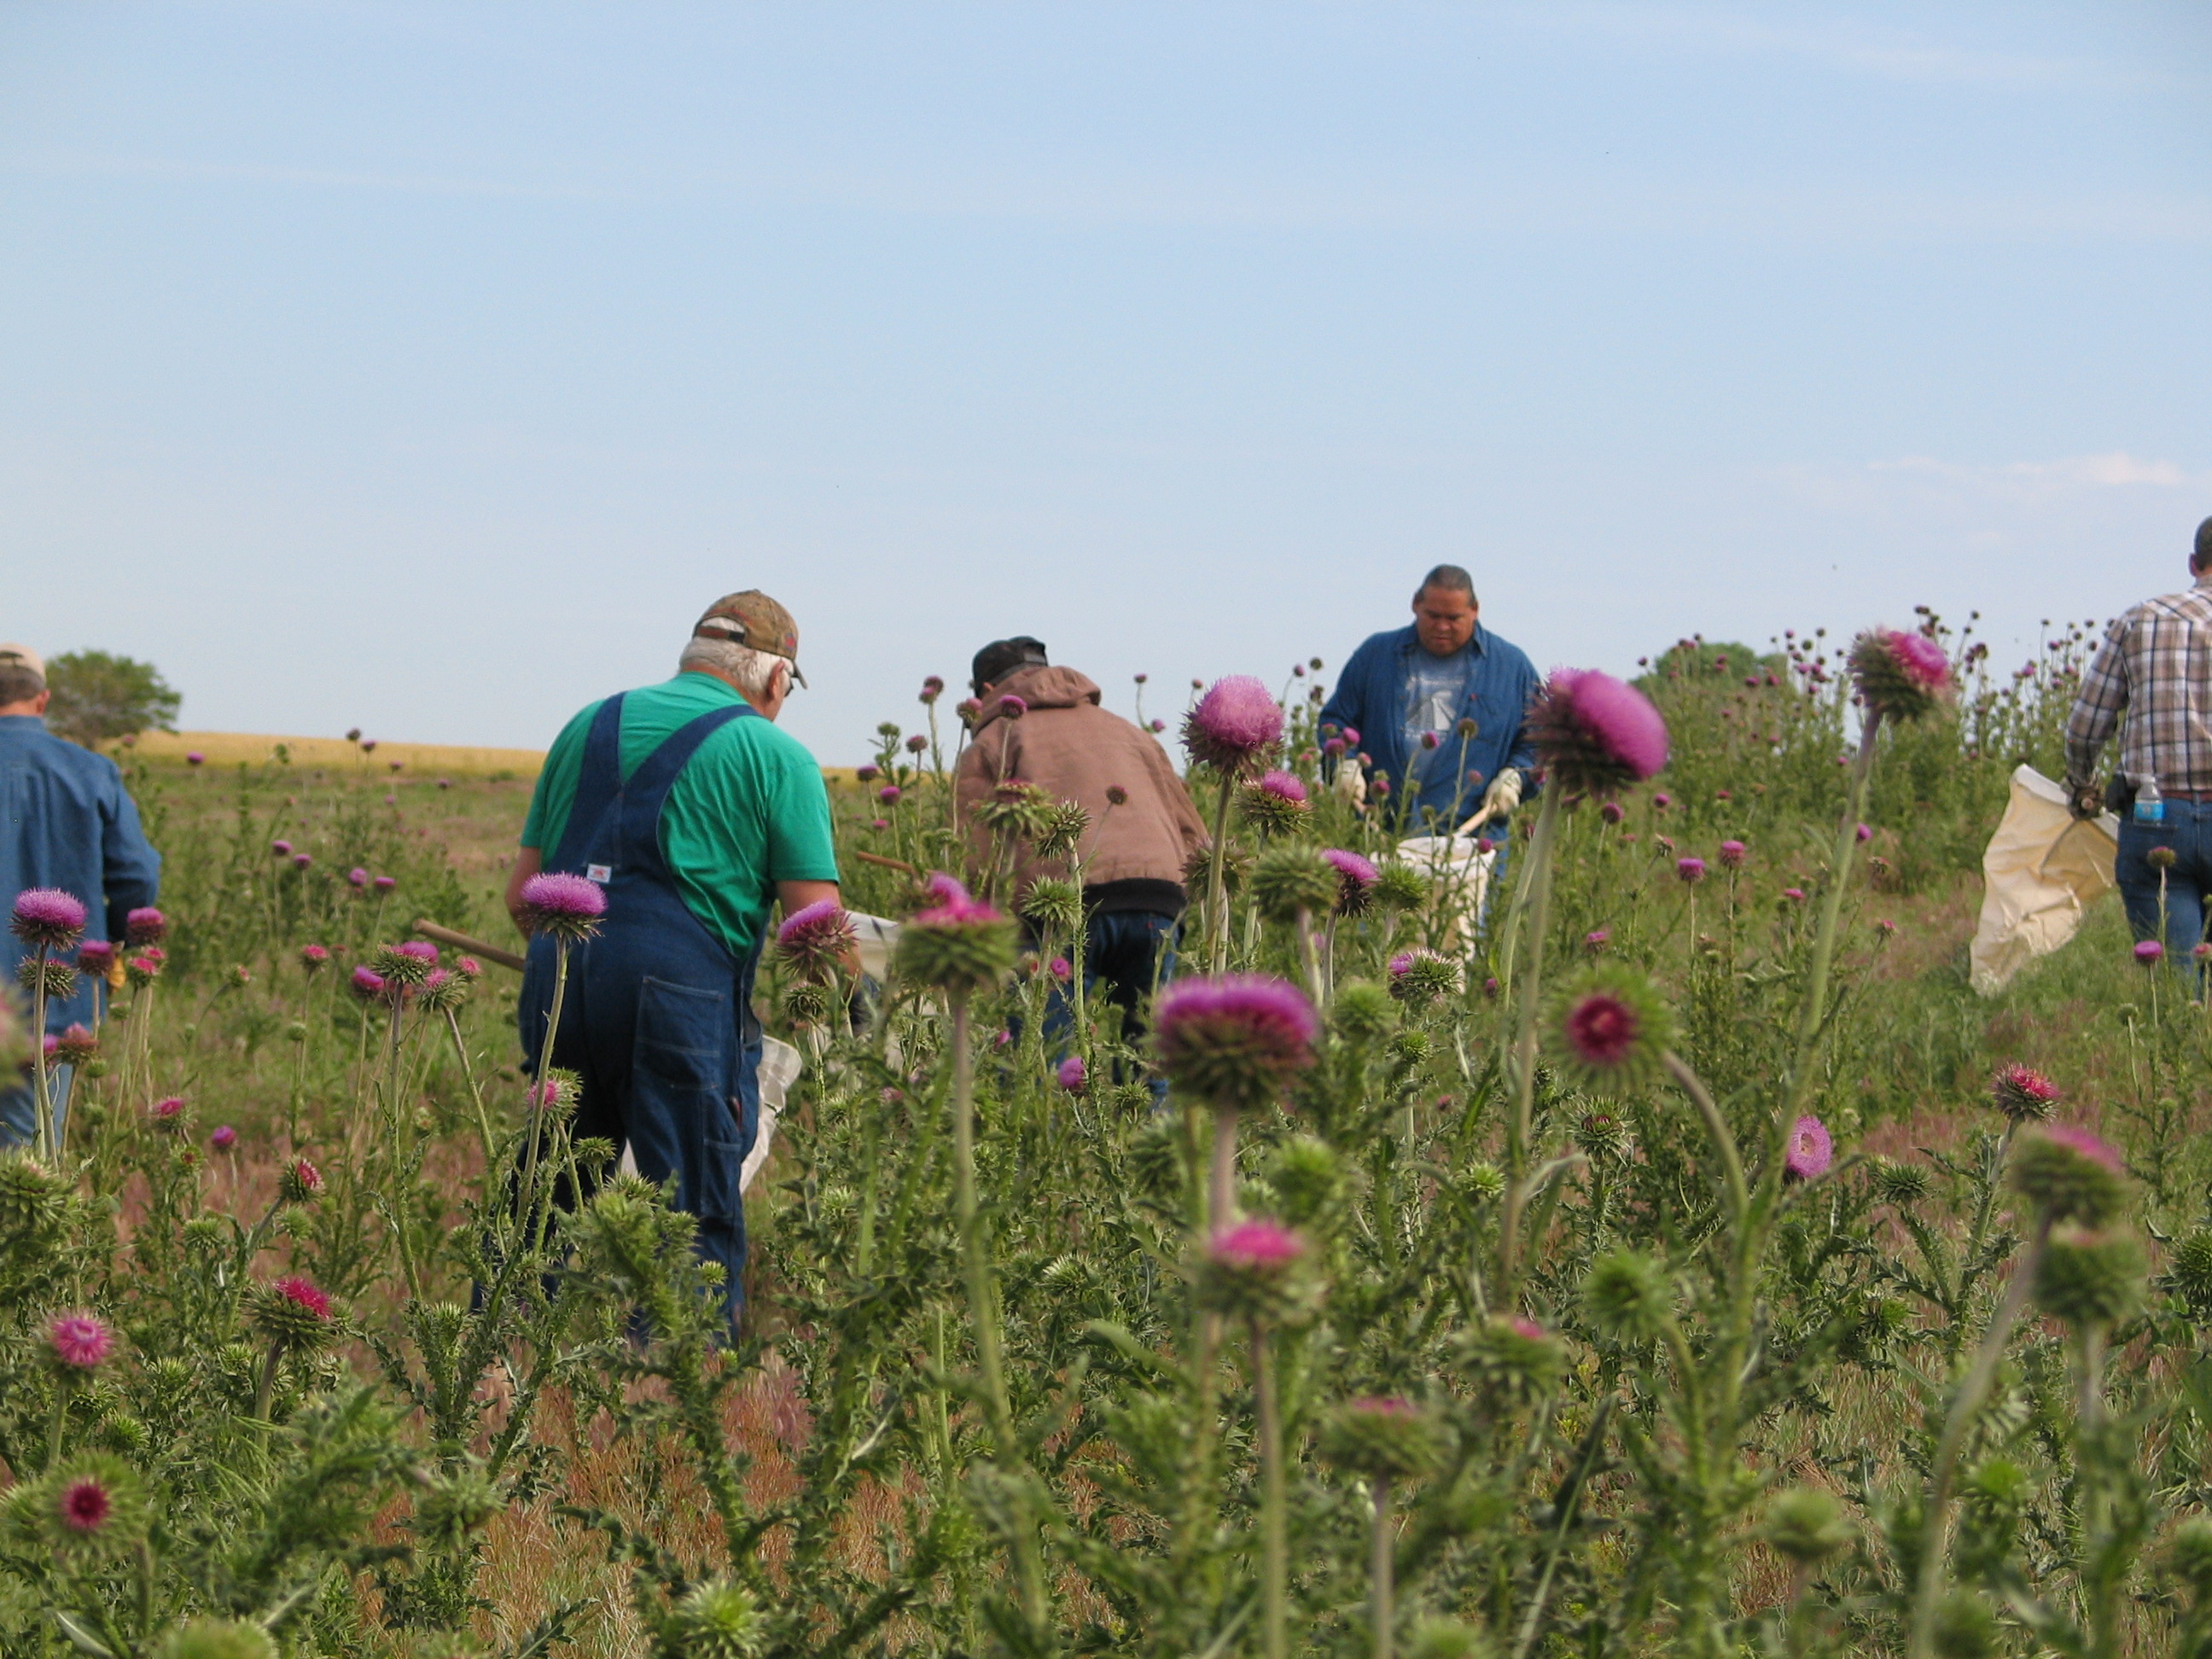thistle: (1130, 979, 1332, 1133), (1529, 671, 1679, 821), (897, 877, 1031, 999), (52, 1445, 155, 1563), (1844, 624, 1961, 725), (1170, 666, 1268, 779), (233, 1272, 338, 1375), (1750, 1093, 1831, 1202), (519, 870, 622, 953), (766, 903, 866, 986), (30, 1310, 117, 1392), (12, 880, 94, 962), (1982, 1051, 2069, 1126), (369, 932, 439, 1002), (1251, 770, 1317, 835), (268, 1152, 334, 1211), (1322, 845, 1372, 913), (118, 910, 174, 953), (995, 692, 1040, 730)
